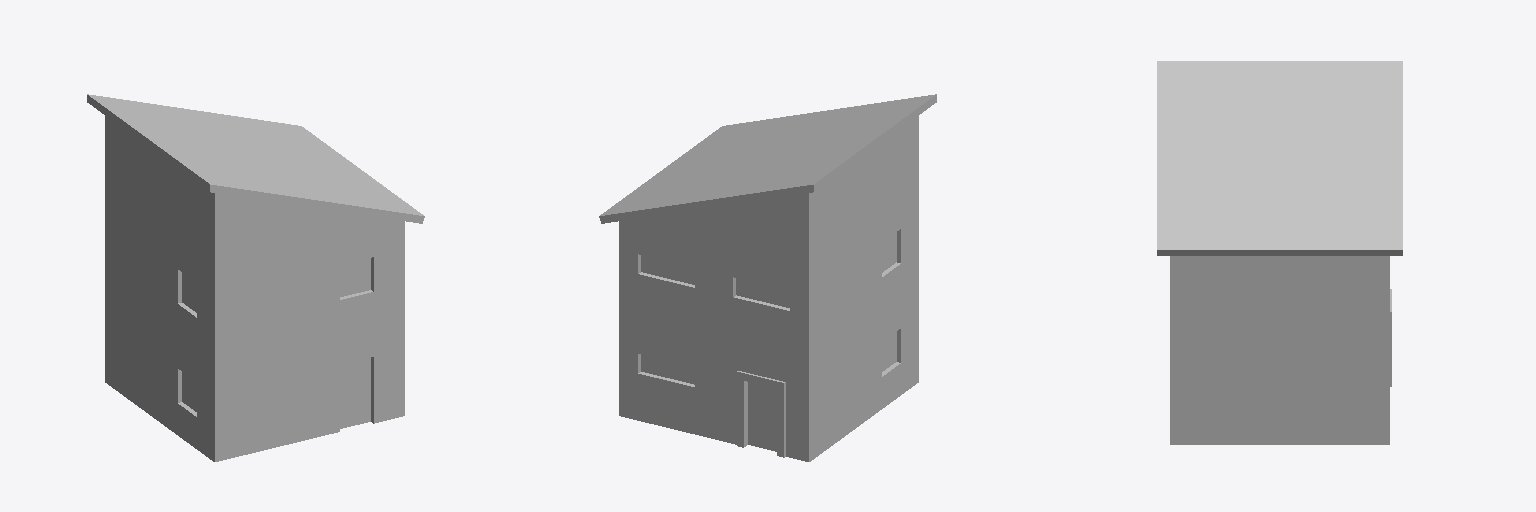
File: house_type15.obj
3 views of the same model, side by side, from view 1: azimuth 30°, elevation 25°; view 2: azimuth 150°, elevation 25°; view 3: azimuth 270°, elevation 25° (orthographic).
Parts seen in each view (by area): view 1: house_type15; view 2: house_type15; view 3: house_type15.
Boxes of the visible parts, x1,y1,x2,y2 form: house_type15: [87, 94, 424, 461]; house_type15: [599, 94, 936, 461]; house_type15: [1157, 61, 1402, 444].
Size of the model in its own units: 0.9042 by 1.15 by 0.9.